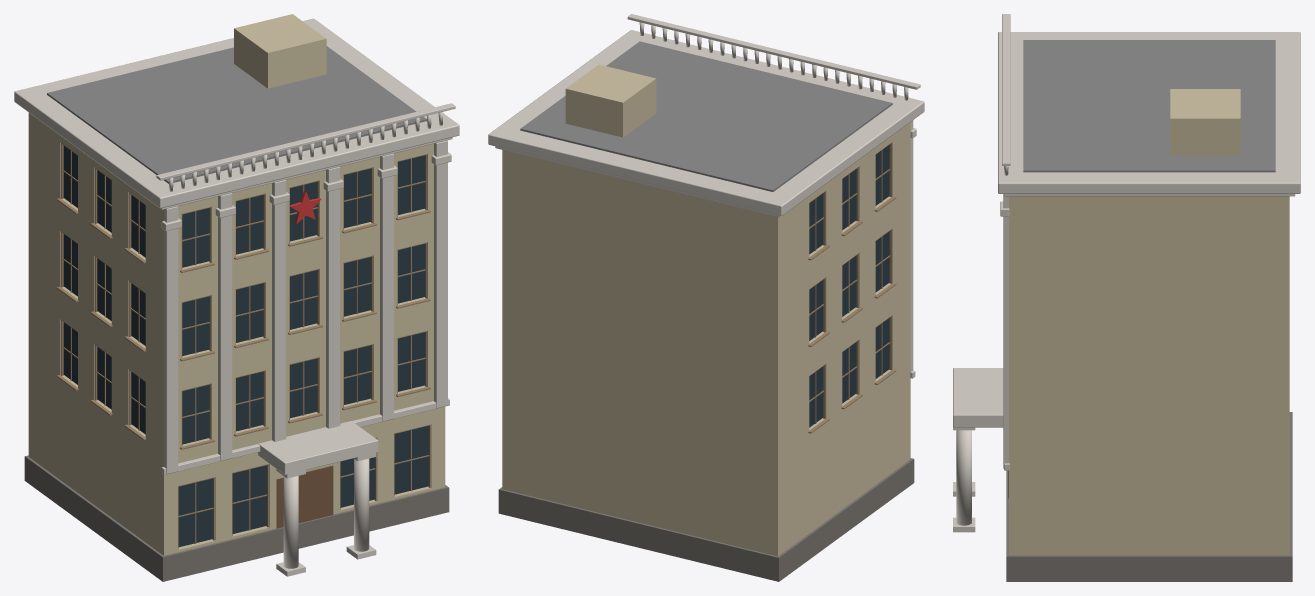
The model's file is bld_minsk.glb.
The picture shows the model from 3 angles, left to right: view 1: azimuth 30°, elevation 25°; view 2: azimuth 150°, elevation 25°; view 3: azimuth 270°, elevation 25°; orthographic projection. The views are drawn at different scales.
Visible parts, largest first — view 1: wall, roof, cornice, plinth, roof_house, pilaster, pilaster.001, portico, pilaster.003, pilaster.002, pilaster.005, pilaster.004 (+34 smaller); view 2: wall, roof, cornice, plinth, roof_house, rail, pilaster, glass.019, glass.016, glass.017, glass.018, glass.020 (+5 smaller); view 3: wall, roof, cornice, plinth, roof_house, portico, pilaster.005, column.001, rail, cornice2.
Part boxes in pixels (box(x1,y1,x2,y2)): wall: box(28, 113, 445, 555); roof: box(47, 46, 426, 183); cornice: box(14, 18, 459, 208); plinth: box(24, 455, 449, 581); roof_house: box(234, 14, 326, 88); pilaster: box(164, 206, 178, 473); pilaster.001: box(218, 193, 232, 460); portico: box(258, 421, 378, 474); pilaster.003: box(326, 166, 340, 428); pilaster.002: box(272, 180, 286, 441); pilaster.005: box(434, 140, 447, 408); pilaster.004: box(380, 153, 393, 421); wall: box(502, 122, 910, 556); roof: box(520, 41, 892, 191); cornice: box(488, 30, 924, 215); plinth: box(498, 458, 914, 581); roof_house: box(565, 64, 656, 137); rail: box(627, 14, 920, 89); pilaster: box(910, 120, 913, 371); glass.019: box(842, 255, 856, 316); glass.016: box(875, 231, 889, 292); glass.017: box(875, 144, 889, 205); glass.018: box(842, 342, 856, 403); glass.020: box(842, 169, 856, 230); wall: box(1009, 196, 1289, 555); roof: box(1023, 40, 1275, 172); cornice: box(998, 32, 1300, 193); plinth: box(1006, 412, 1292, 581); roof_house: box(1170, 89, 1240, 155); portico: box(953, 368, 1003, 427); pilaster.005: box(1003, 194, 1008, 468); column.001: box(956, 430, 971, 525); rail: box(1002, 14, 1010, 165); cornice2: box(1003, 194, 1295, 196).
Bounding box in the file's own units: 12.8 × 17.35 × 12.4.
